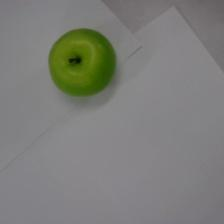green: (48, 28, 117, 97)
